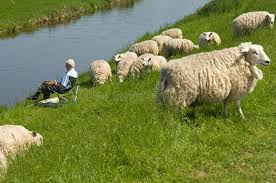sheep: (162, 45, 270, 122), (1, 123, 45, 169), (229, 10, 276, 36), (132, 53, 164, 80), (125, 40, 163, 62), (163, 37, 198, 58), (113, 50, 136, 80), (197, 28, 228, 48), (154, 26, 189, 41), (92, 60, 110, 86), (151, 35, 168, 49)
